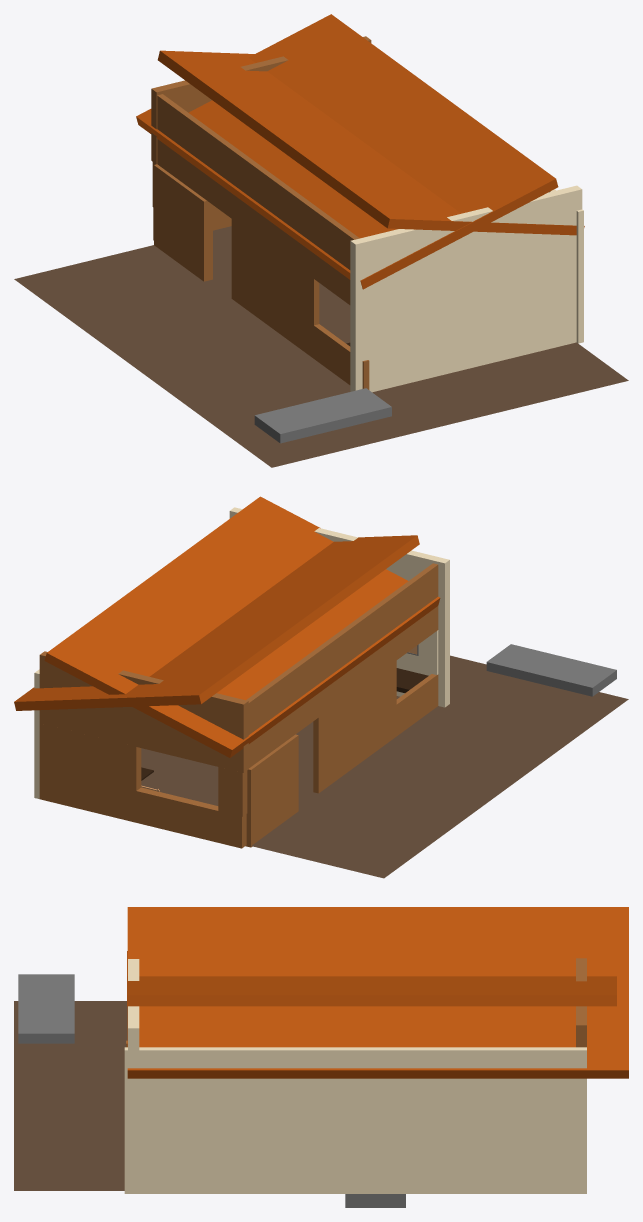
Rendered from Scenario 1.fbx.
3 renders of one model, top to bottom at view 1: azimuth 30°, elevation 25°; view 2: azimuth 150°, elevation 25°; view 3: azimuth 270°, elevation 25°, orthographic. The views are drawn at different scales.
Parts seen in each view (by area): view 1: Ground, Parede___2__2_, Parede___3, Parede___2__3_, Parede___4__1_, Parede___2__7_, Parede___4, TabletTop___1_1, Parede___2__6_, Parede___2__1_, Parede___1; view 2: Ground, Parede___2__2_, Parede___2__3_, Parede___4__1_, Parede___2__1_, Parede___2, Parede___2__5_, Parede___4, Parede___2__7_, Parede___3, TabletTop___1_1, Parede___2__6_ (+2 smaller); view 3: Parede___1, Parede___2__3_, Ground, Parede___2__2_, TabletTop___1_1, Parede___3, Prop___5, Parede___2__1_.
Boxes of the visible parts, x1,y1,x2,y2 form: Ground: [14, 226, 628, 467]; Parede___2__2_: [136, 14, 558, 289]; Parede___3: [350, 185, 582, 392]; Parede___2__3_: [157, 50, 584, 235]; Parede___4__1_: [157, 94, 359, 304]; Parede___2__7_: [154, 164, 212, 281]; Parede___4: [231, 265, 369, 389]; TabletTop___1_1: [254, 388, 391, 443]; Parede___2__6_: [231, 219, 319, 325]; Parede___2__1_: [151, 36, 371, 164]; Parede___1: [549, 189, 583, 343]; Ground: [141, 655, 628, 878]; Parede___2__2_: [44, 496, 440, 757]; Parede___2__3_: [14, 535, 419, 710]; Parede___4__1_: [246, 563, 438, 768]; Parede___2__1_: [39, 651, 248, 772]; Parede___2: [39, 767, 246, 848]; Parede___2__5_: [39, 723, 141, 790]; Parede___4: [313, 674, 438, 793]; Parede___2__7_: [245, 734, 298, 847]; Parede___3: [229, 507, 449, 707]; TabletTop___1_1: [486, 644, 616, 696]; Parede___2__6_: [313, 660, 396, 761]; Parede___1: [124, 1047, 586, 1193]; Parede___2__3_: [127, 907, 628, 1078]; Ground: [14, 1001, 127, 1190]; Parede___2__2_: [127, 951, 616, 1006]; TabletTop___1_1: [18, 974, 74, 1043]; Parede___3: [128, 959, 139, 1193]; Prop___5: [345, 1194, 405, 1207]; Parede___2__1_: [576, 958, 586, 1047].
Size of what is drawn, in the model's own units: 8177 by 3962 by 10945.
